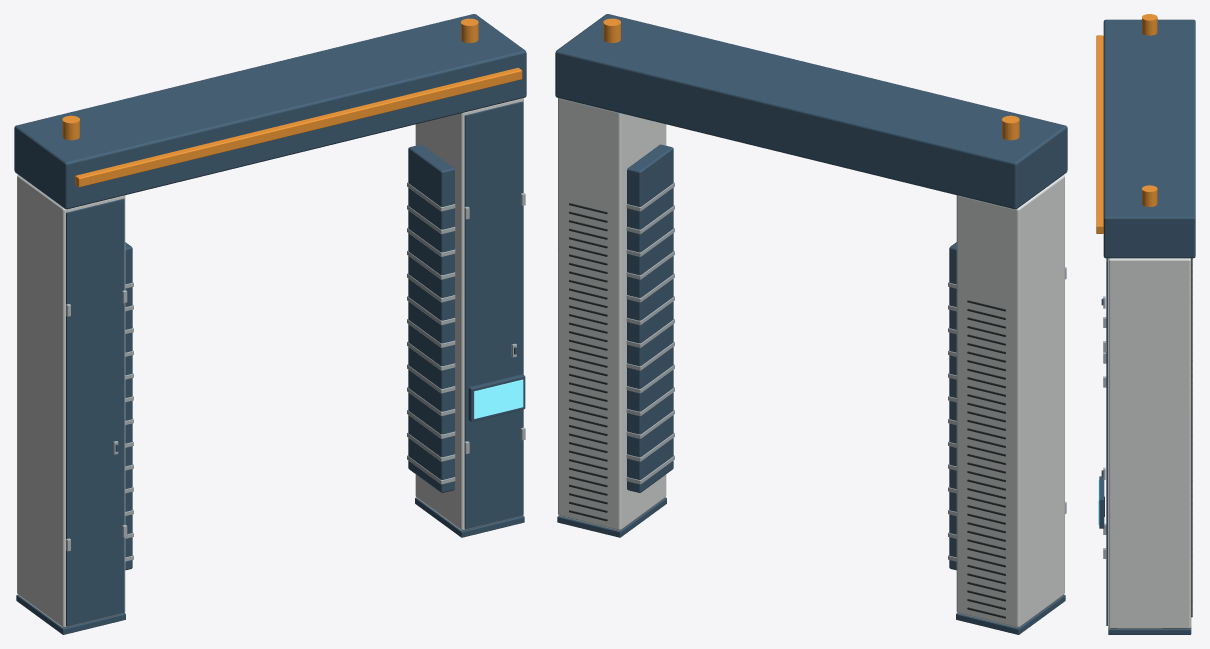
The model's file is container-inspection-and-customs-yard-container-inspec-733b2298__29276.glb.
3 views of the same model, side by side, from view 1: azimuth 30°, elevation 25°; view 2: azimuth 150°, elevation 25°; view 3: azimuth 270°, elevation 25° (orthographic). The views are drawn at different scales.
Parts seen in each view (by area): view 1: container-inspection-and-customs-yard-drive-through-scanning (×5); view 2: container-inspection-and-customs-yard-drive-through-scanning (×5); view 3: container-inspection-and-customs-yard-drive-through-scanning (×5).
Part boxes in pixels (left/top/right/bottom): container-inspection-and-customs-yard-drive-through-scanning (×5): left=14, top=14, right=526, bottom=634; container-inspection-and-customs-yard-drive-through-scanning (×5): left=555, top=14, right=1067, bottom=634; container-inspection-and-customs-yard-drive-through-scanning (×5): left=1096, top=14, right=1195, bottom=634.
Size of the model in its own units: 5.1 by 5.18 by 1.08.
